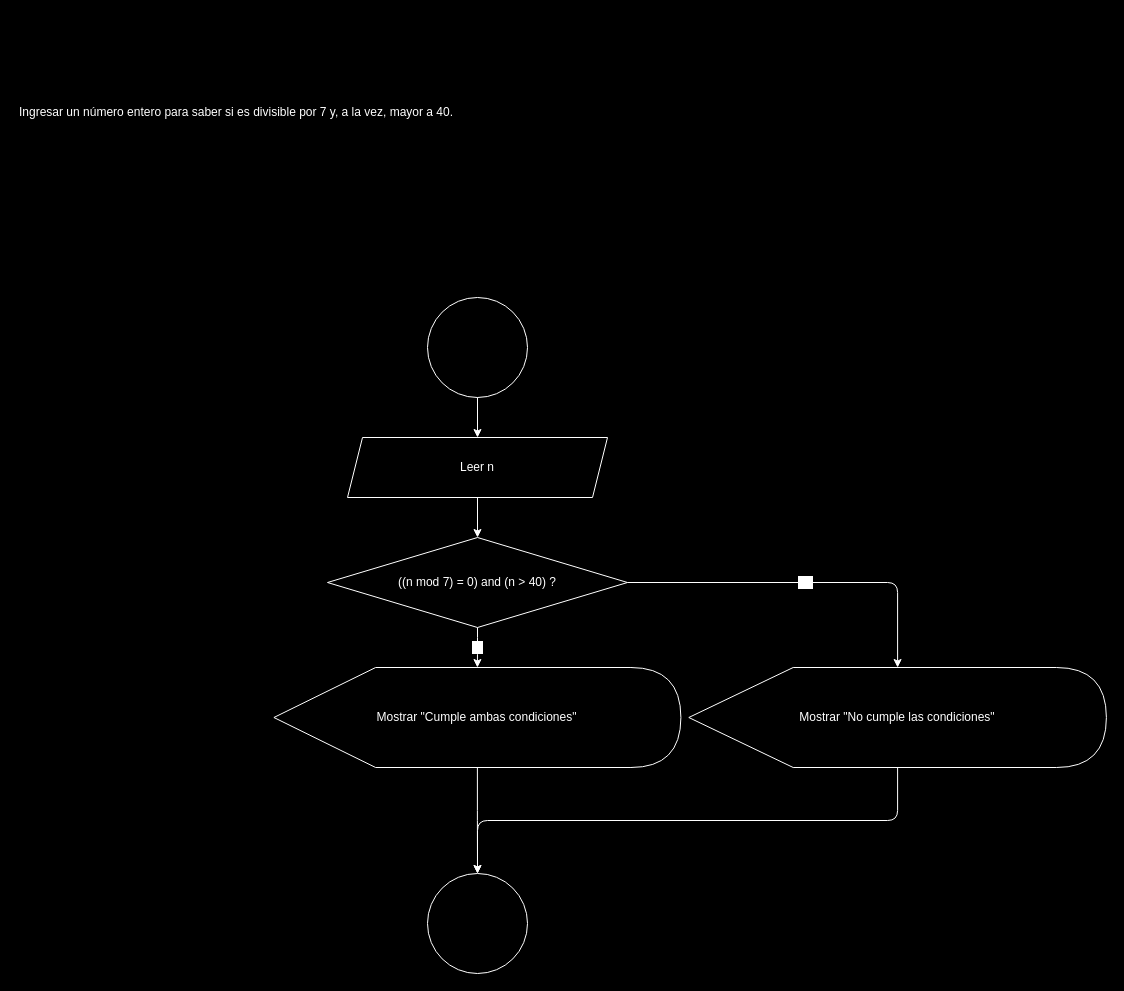
The diagram is 1124 pixels wide and 991 high, and some of its shapes have lost their labels. Each missing label, with the centre of its shape:
Fin: point (477, 923)
Inicio: point (477, 347)
